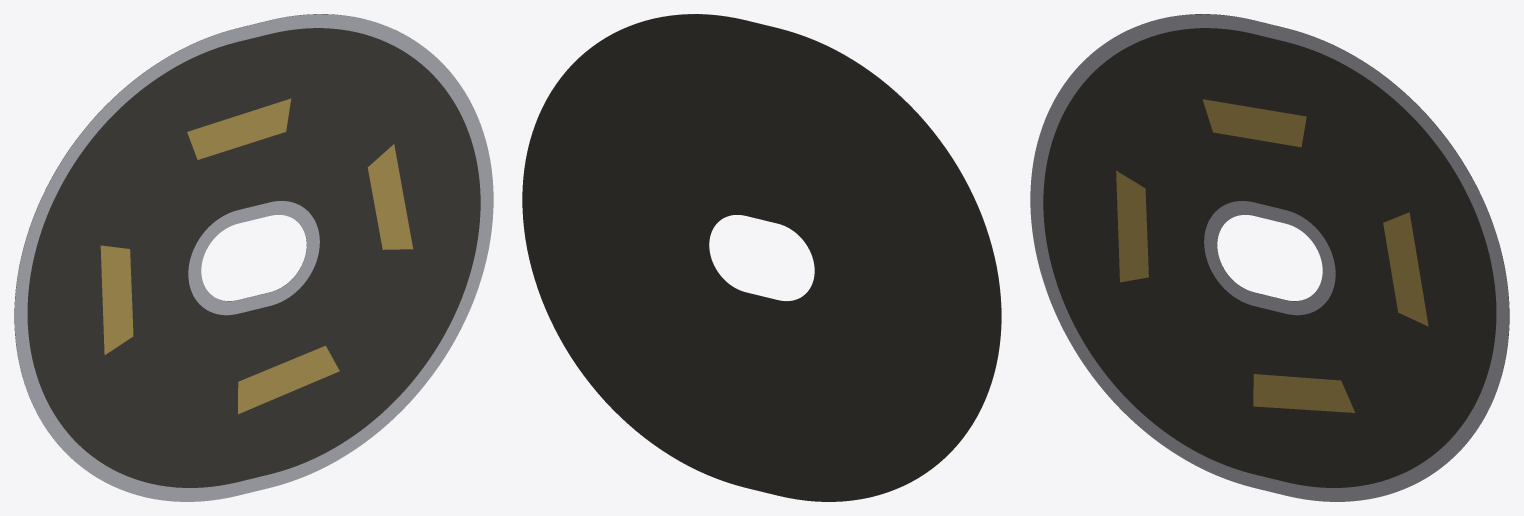
The model's file is track.obj.
The picture shows the model from 3 angles, left to right: view 1: azimuth 30°, elevation 25°; view 2: azimuth 150°, elevation 25°; view 3: azimuth 330°, elevation 25°; orthographic projection.
Bounding box in the file's own units: 1.47 × 1.38 × 0.002.
